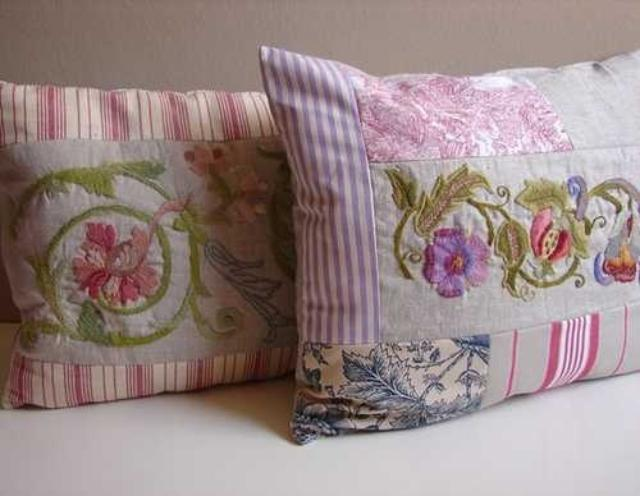pillow: (256, 42, 638, 446), (0, 78, 296, 410)
